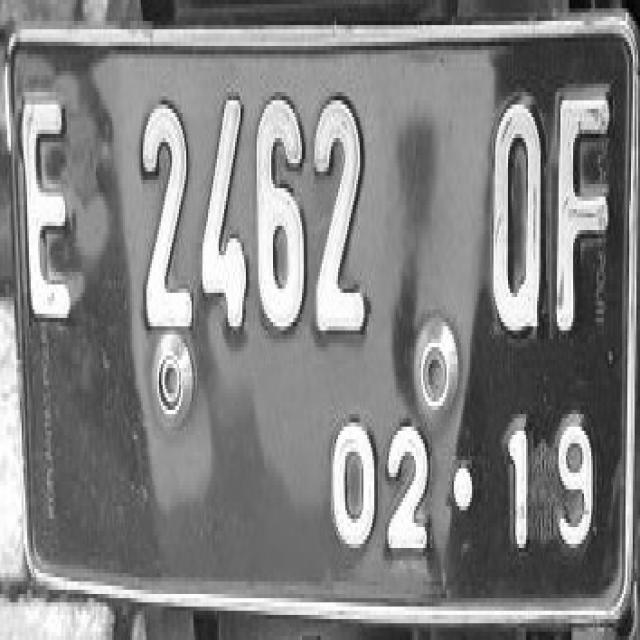license-plat: (11, 24, 633, 616)
